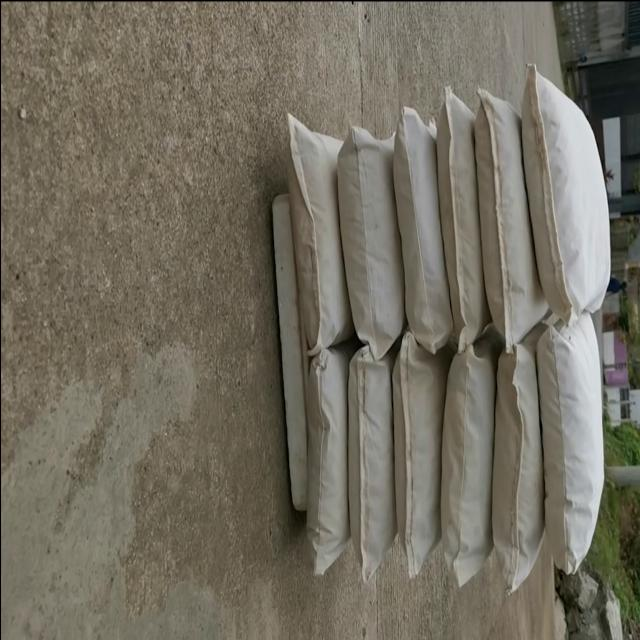Sack: (515, 59, 615, 318), (268, 100, 351, 354), (465, 81, 543, 351), (385, 88, 461, 352), (534, 323, 610, 580), (428, 354, 508, 586), (335, 104, 409, 354), (428, 81, 494, 343), (391, 339, 459, 587), (484, 348, 552, 594), (344, 345, 405, 587), (298, 352, 362, 576)
